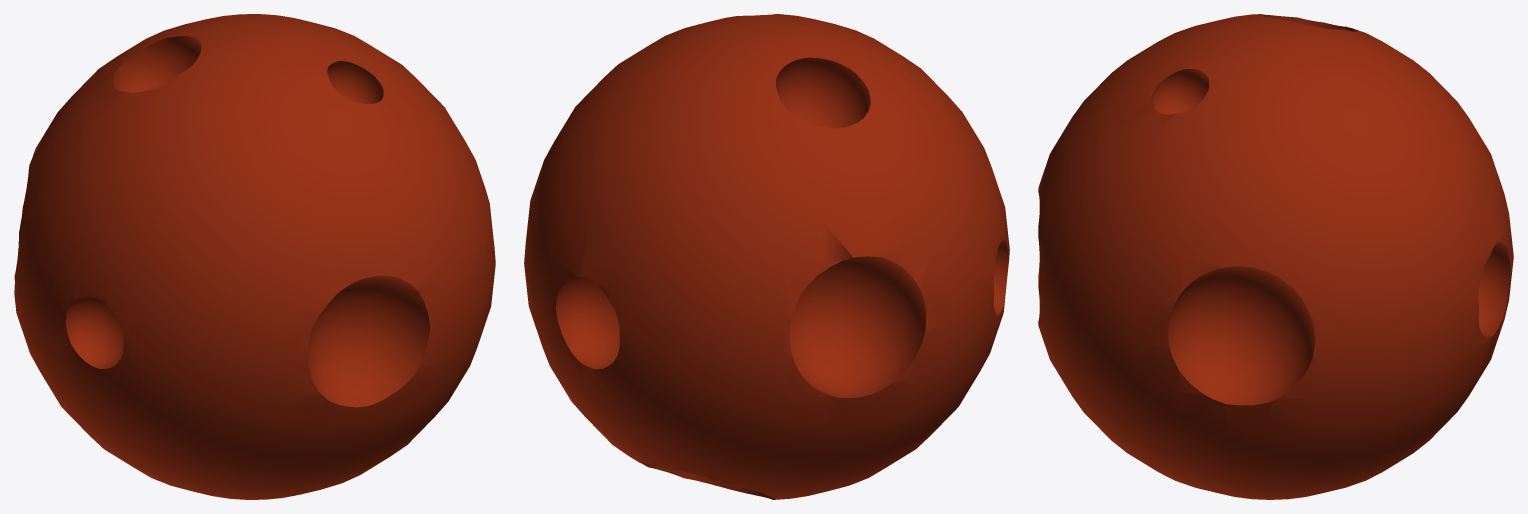
Rendered from planet.FBX.
3 views of the same model, side by side, from view 1: azimuth 30°, elevation 25°; view 2: azimuth 150°, elevation 25°; view 3: azimuth 270°, elevation 25° (orthographic).
Parts seen in each view (by area): view 1: Sphere001; view 2: Sphere001; view 3: Sphere001.
Boxes of the visible parts, bbox=[...] form: Sphere001: bbox=[14, 14, 495, 499]; Sphere001: bbox=[524, 14, 1009, 499]; Sphere001: bbox=[1038, 14, 1513, 499].
Size of the model in its own units: 288 by 290 by 284.
